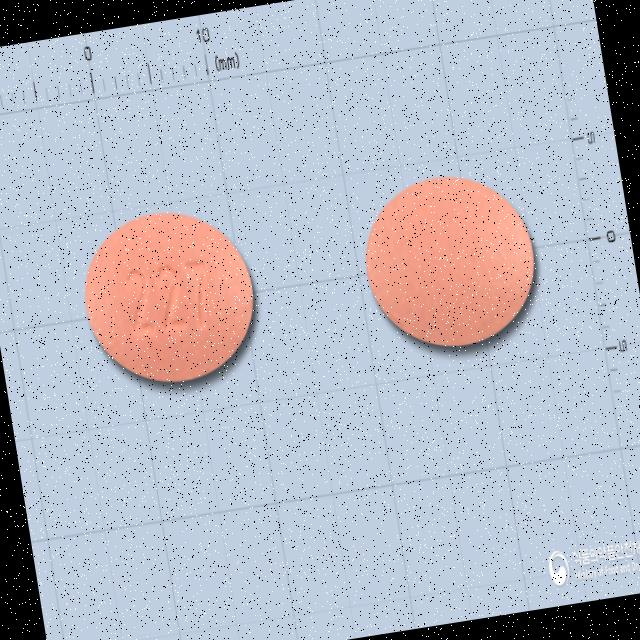Isentress HD: (72, 199, 266, 395), (354, 161, 546, 358)
